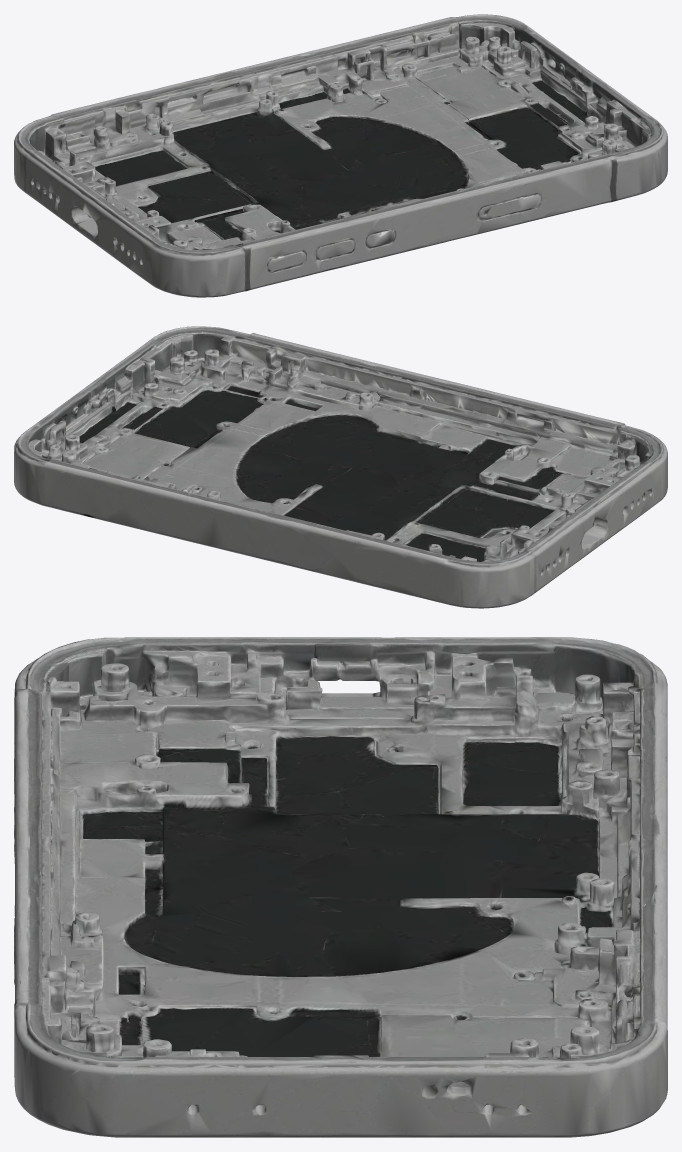
Rendered from chassis-transformed.glb.
The picture shows the model from 3 angles, top to bottom: view 1: azimuth 30°, elevation 25°; view 2: azimuth 150°, elevation 25°; view 3: azimuth 270°, elevation 25°; orthographic projection. The views are drawn at different scales.
Visible parts, largest first — view 1: meshy_1793713389727; view 2: meshy_1793713389727; view 3: meshy_1793713389727.
Part boxes in pixels (x1,y1,x2,y2): meshy_1793713389727: (14,14,667,297); meshy_1793713389727: (14,326,667,608); meshy_1793713389727: (14,637,667,1137).
Bounding box in the file's own units: 10 × 0.8337 × 6.4.
Materials: 1 (1 with a texture image).
